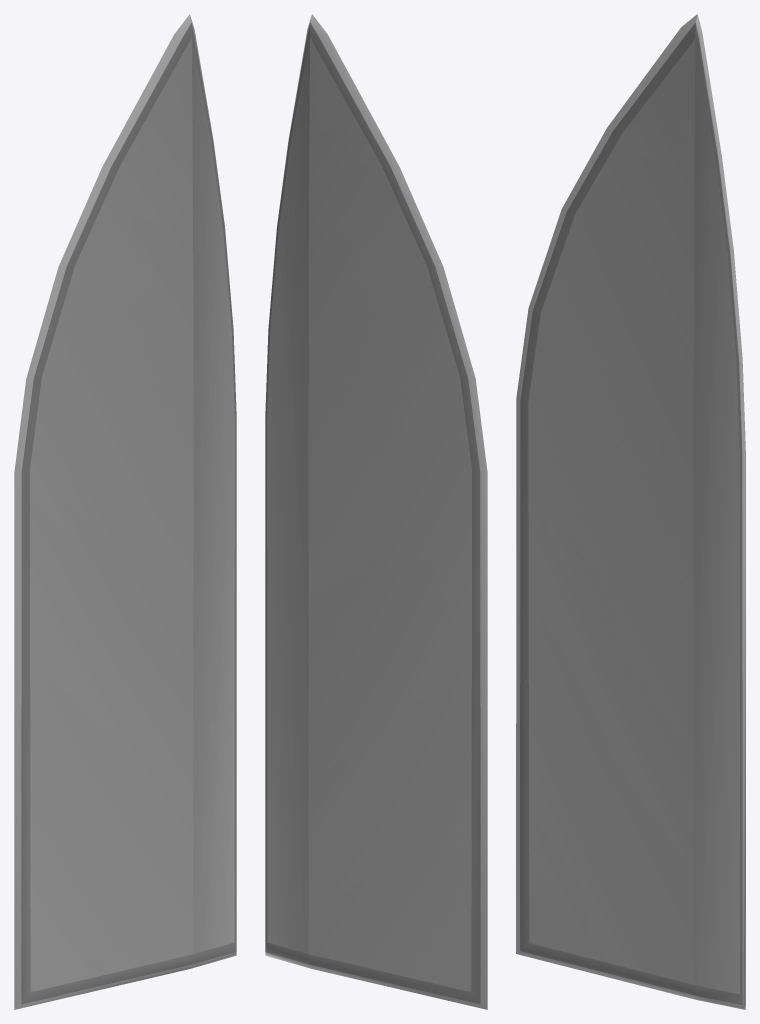
Rendered from stone_blade (16).glb.
The picture shows the model from 3 angles, left to right: view 1: azimuth 30°, elevation 25°; view 2: azimuth 150°, elevation 25°; view 3: azimuth 330°, elevation 25°; orthographic projection. The views are drawn at different scales.
Parts seen in each view (by area): view 1: stone_blade_unscratched.036; view 2: stone_blade_unscratched.036; view 3: stone_blade_unscratched.036.
Boxes of the visible parts, box(x1,y1,x2,y2) form: stone_blade_unscratched.036: box(14, 14, 236, 1009); stone_blade_unscratched.036: box(265, 14, 487, 1009); stone_blade_unscratched.036: box(516, 14, 745, 1009).
Size of the model in its own units: 2.79 by 11.43 by 0.1594.
1 material, 1 textured.
